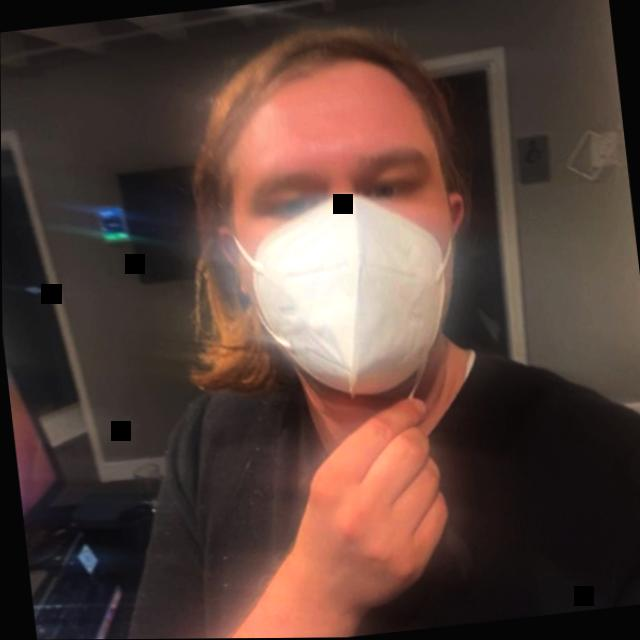Mask: (133, 0, 516, 437)
